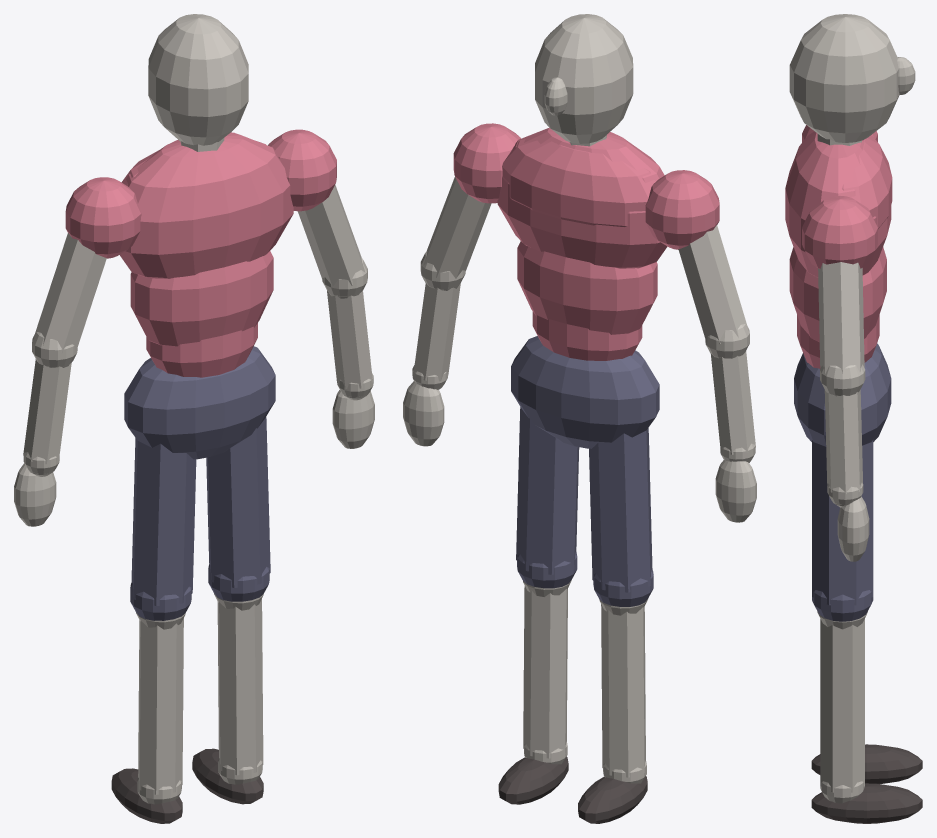
Rendered from woman.glb.
3 renders of one model, left to right at view 1: azimuth 30°, elevation 25°; view 2: azimuth 150°, elevation 25°; view 3: azimuth 270°, elevation 25°, orthographic.
Visible parts, largest first — view 1: Body, Top; view 2: Body, Top; view 3: Body, Top.
Part boxes in pixels (x1=…): Body: x1=14, y1=14, x2=374, y2=823; Top: x1=65, y1=129, x2=336, y2=377; Body: x1=403, y1=14, x2=756, y2=823; Top: x1=453, y1=123, x2=719, y2=360; Body: x1=789, y1=14, x2=922, y2=823; Top: x1=785, y1=125, x2=892, y2=368.
Size of the model in its own units: 0.7519 by 1.6 by 0.2529.
